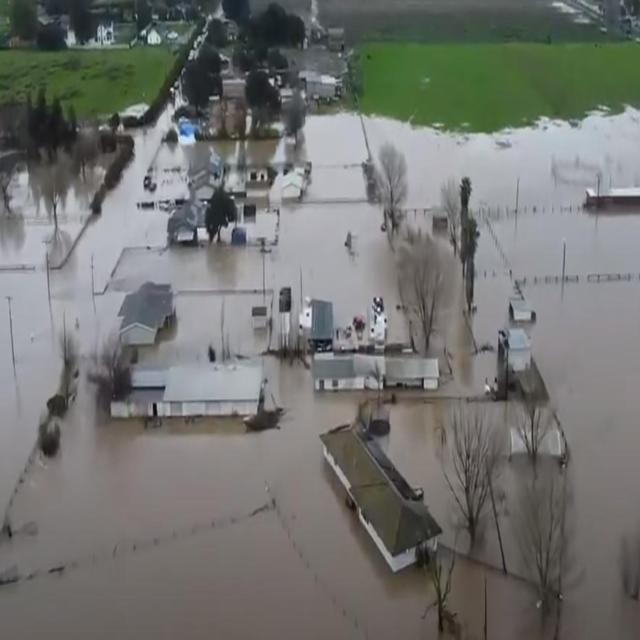flood: (0, 109, 438, 638), (368, 107, 640, 637), (139, 112, 368, 202), (451, 453, 559, 638), (266, 203, 408, 334), (406, 212, 497, 396), (384, 393, 470, 555), (473, 223, 513, 353), (58, 161, 104, 237), (225, 293, 269, 360), (8, 165, 51, 224), (307, 167, 366, 197), (487, 402, 515, 452), (540, 461, 564, 488), (410, 315, 425, 351)
house: (320, 418, 441, 570), (124, 339, 270, 424), (312, 350, 383, 400), (117, 284, 175, 343), (382, 350, 442, 393), (165, 202, 200, 247), (306, 294, 334, 350), (194, 151, 222, 203), (280, 170, 305, 201), (148, 19, 166, 49), (245, 162, 268, 185)
